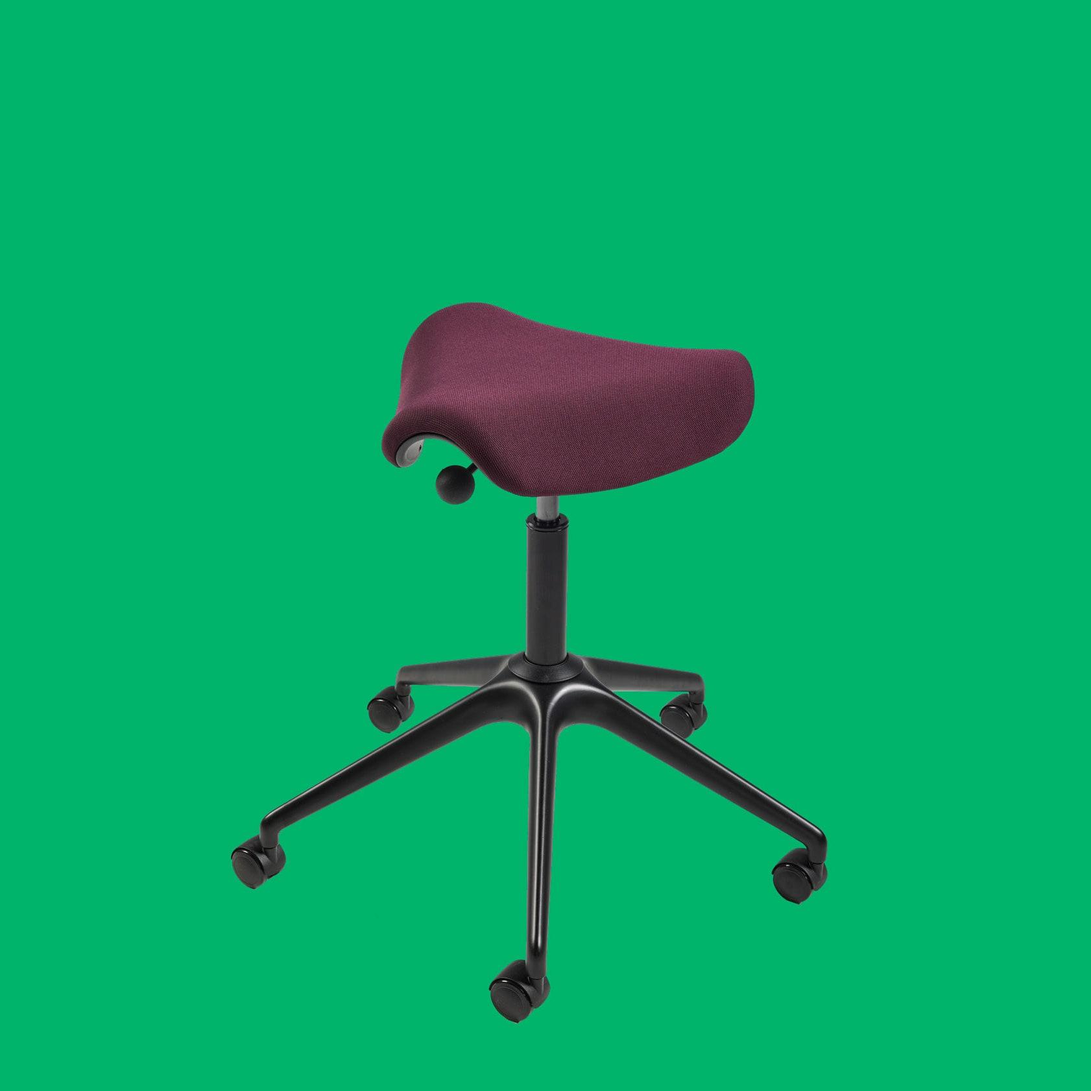chair: (232, 309, 840, 959)
